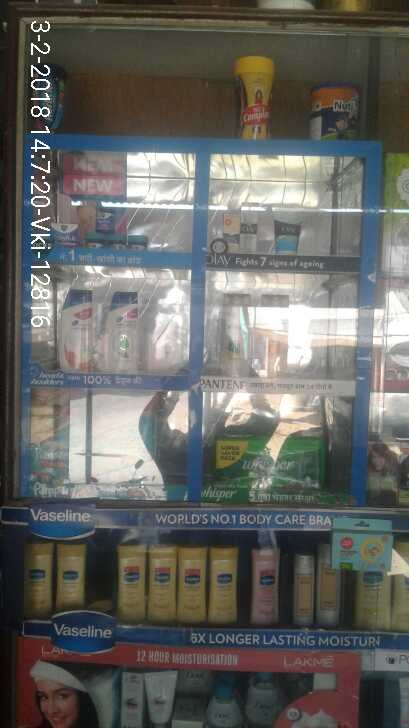vicks: (45, 191, 160, 245)
